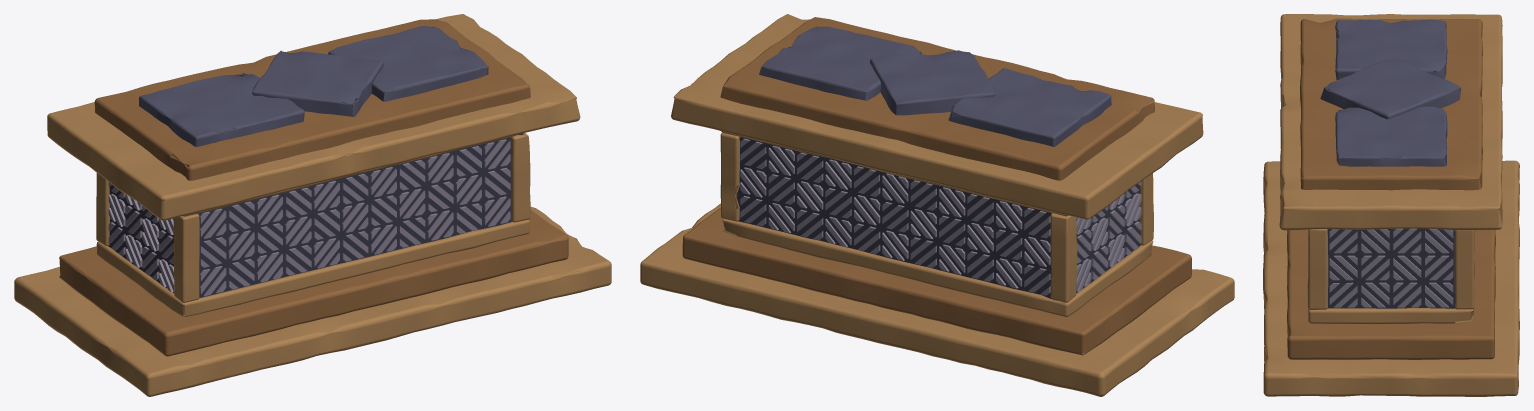
The model's file is Sarcofago.fbx.
3 renders of one model, left to right at view 1: azimuth 30°, elevation 25°; view 2: azimuth 150°, elevation 25°; view 3: azimuth 270°, elevation 25°, orthographic. The views are drawn at different scales.
Visible parts, largest first — view 1: SM_Sarcofago; view 2: SM_Sarcofago; view 3: SM_Sarcofago.
Part boxes in pixels (left/top/right/bottom): SM_Sarcofago: left=14, top=14, right=611, bottom=396; SM_Sarcofago: left=640, top=14, right=1234, bottom=396; SM_Sarcofago: left=1263, top=14, right=1519, bottom=396.
Bounding box in the file's own units: 201 × 90.41 × 101.
